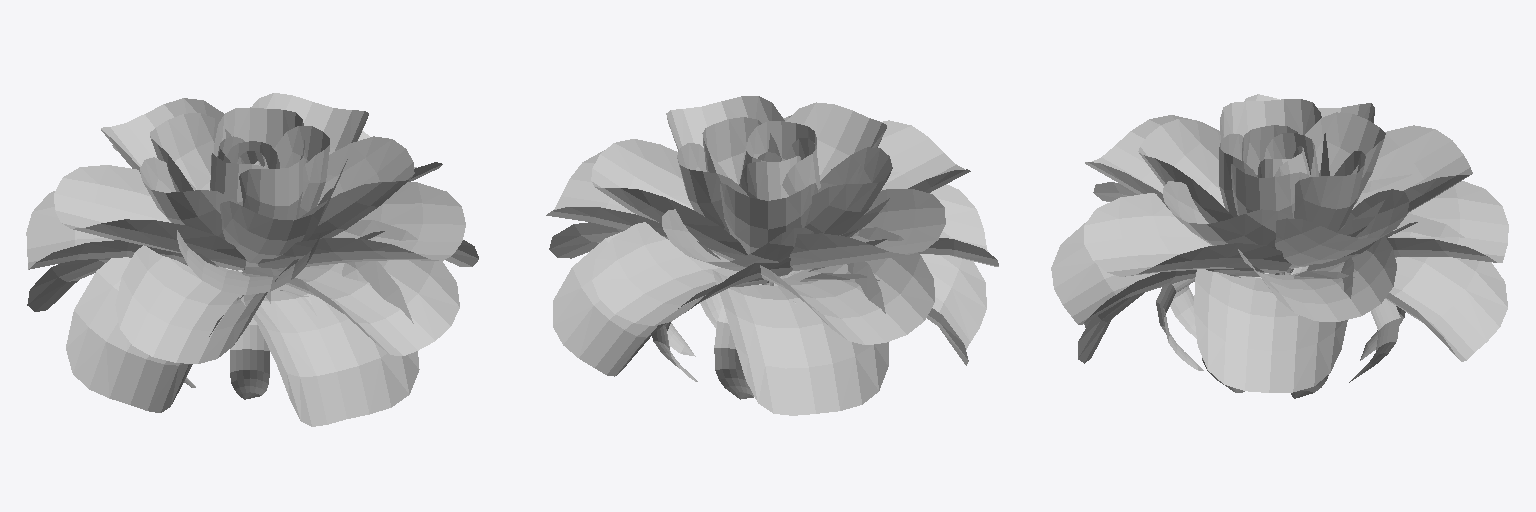
File: FlowerTopModel_03_seq_0048.obj
3 views of the same model, side by side, from view 1: azimuth 30°, elevation 25°; view 2: azimuth 150°, elevation 25°; view 3: azimuth 270°, elevation 25° (orthographic).
Visible parts, largest first — view 1: FlowerTopModel_03; view 2: FlowerTopModel_03; view 3: FlowerTopModel_03.
Boxes of the visible parts, box(x1,y1,x2,y2) form: FlowerTopModel_03: box(26, 93, 478, 426); FlowerTopModel_03: box(546, 96, 998, 415); FlowerTopModel_03: box(1051, 94, 1508, 398).
Size of the model in its own units: 915 by 503 by 935.